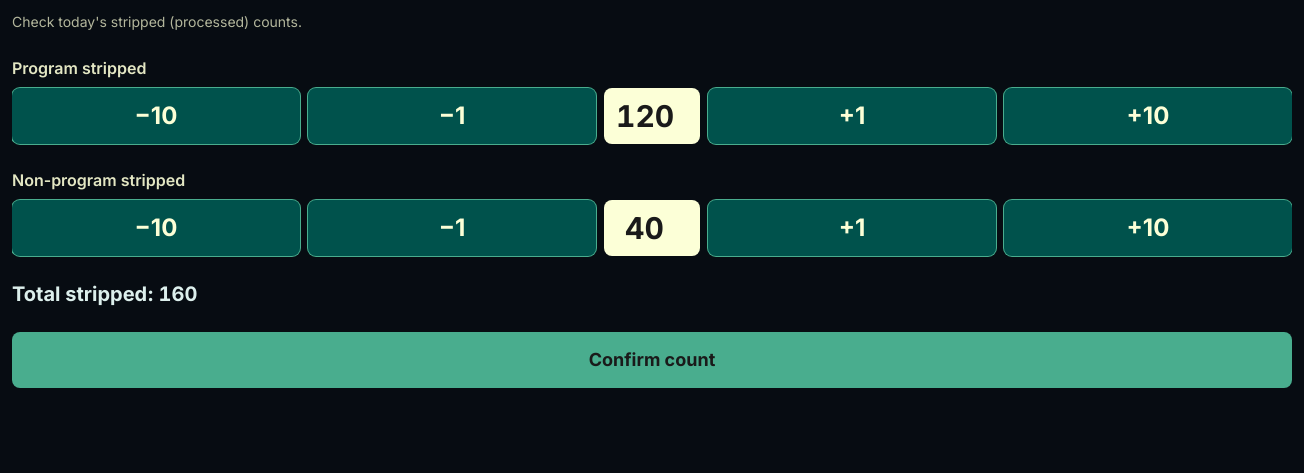
Test case: what the new branch must NOT swallow › `closed` keeps its own sentence
The width and height of the screenshot is (1304, 473).
Step 1. Click the button "Confirm count" → (652, 360), box [12,332,1292,388]
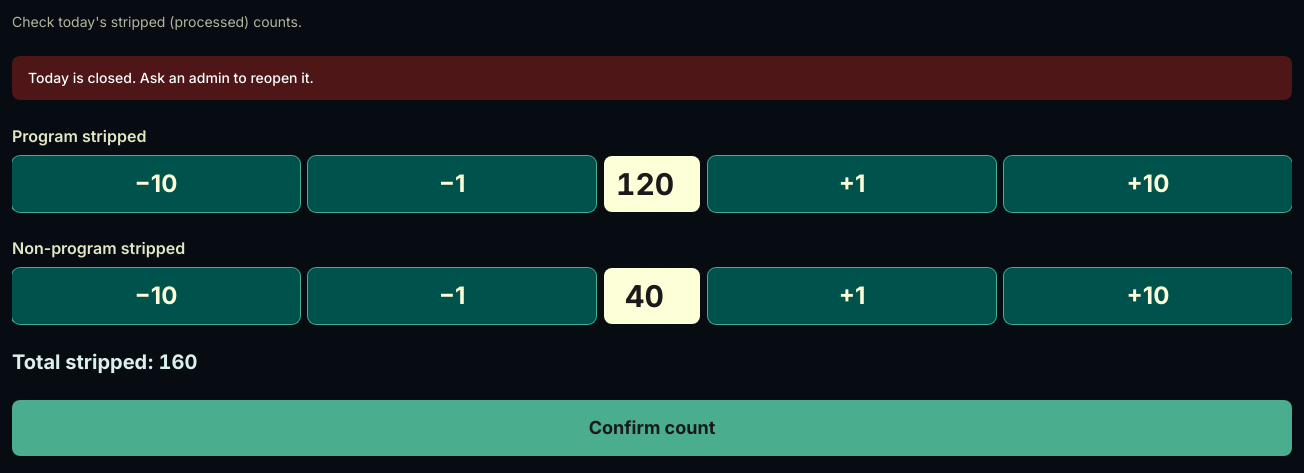
Expected: the text "Today is closed. Ask an admin to reopen it." is shown, [12,56,1292,100]
